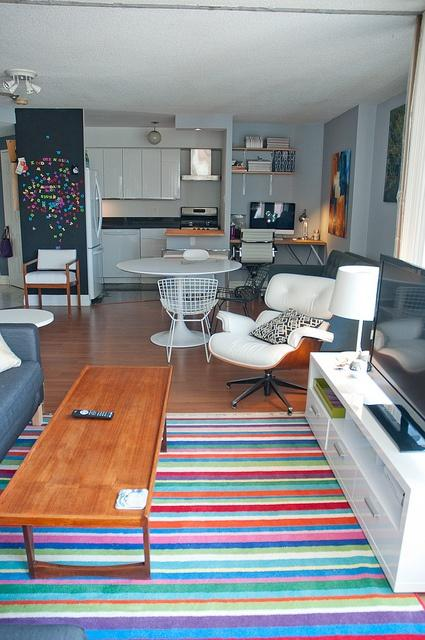AIO PC-Monitor-TV: (361, 252, 424, 454)
Kursi: (21, 248, 79, 318)
Meja: (0, 364, 173, 580)
